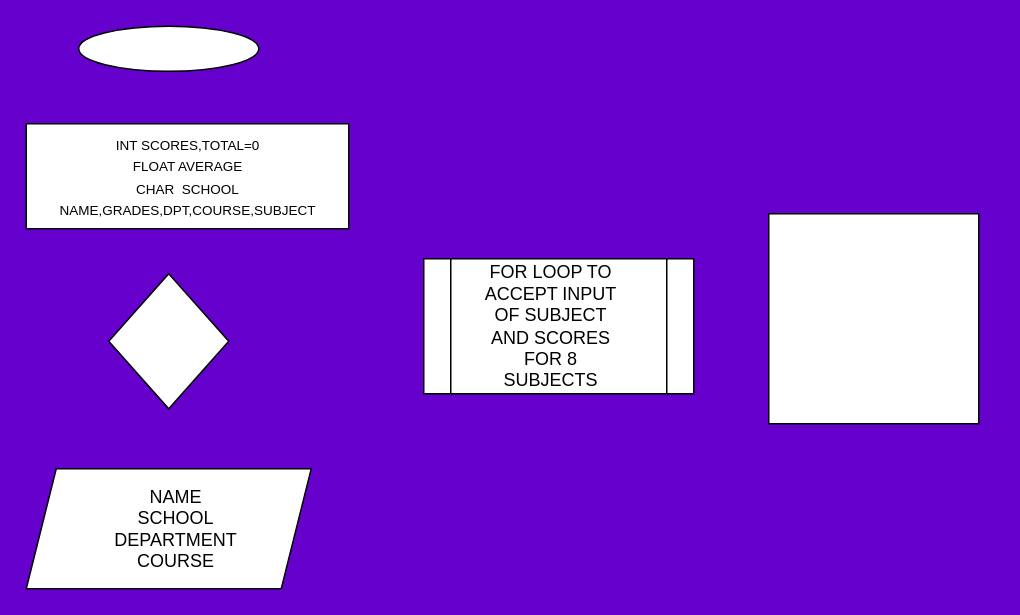
Image size: 1020x615. Some labels were removed from this diagram. Here are the shapes that lost their labels. From the top down, the centre of each, then its label:
the point at 168,48: START
the point at 168,340: 1.REPORT 0.EXIT
